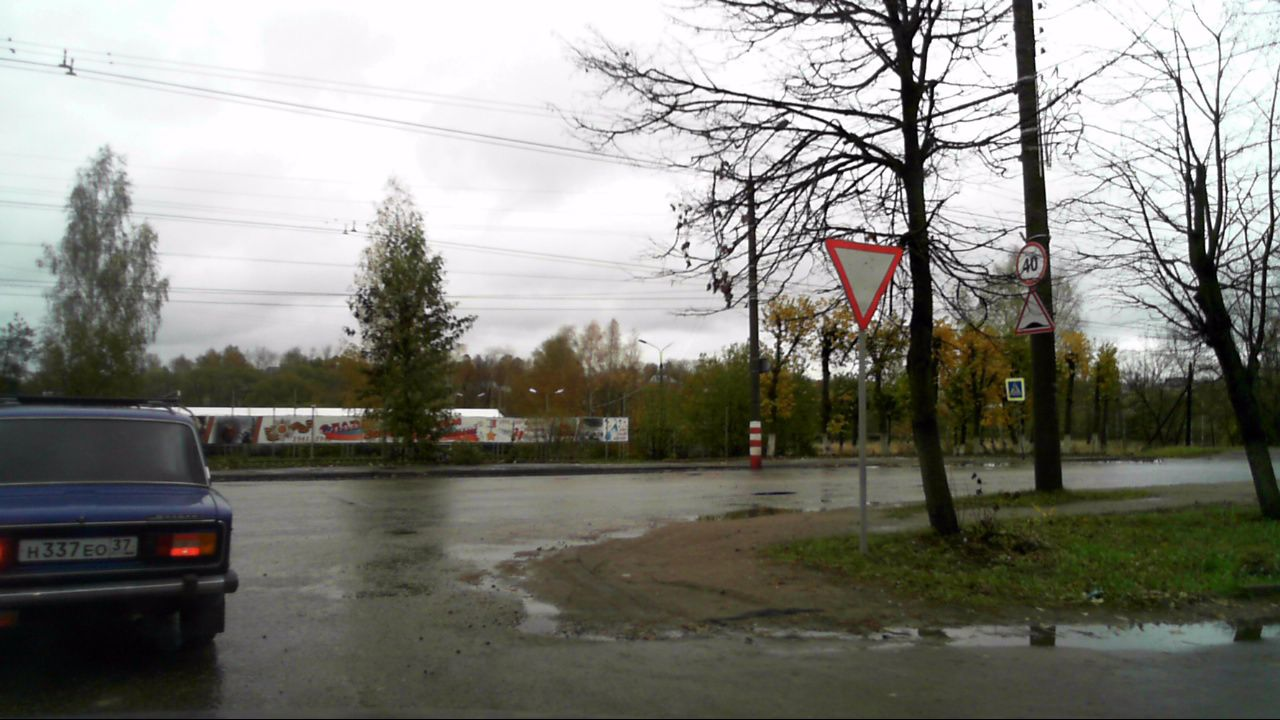speed_warning_40: (1013, 241, 1045, 283)
